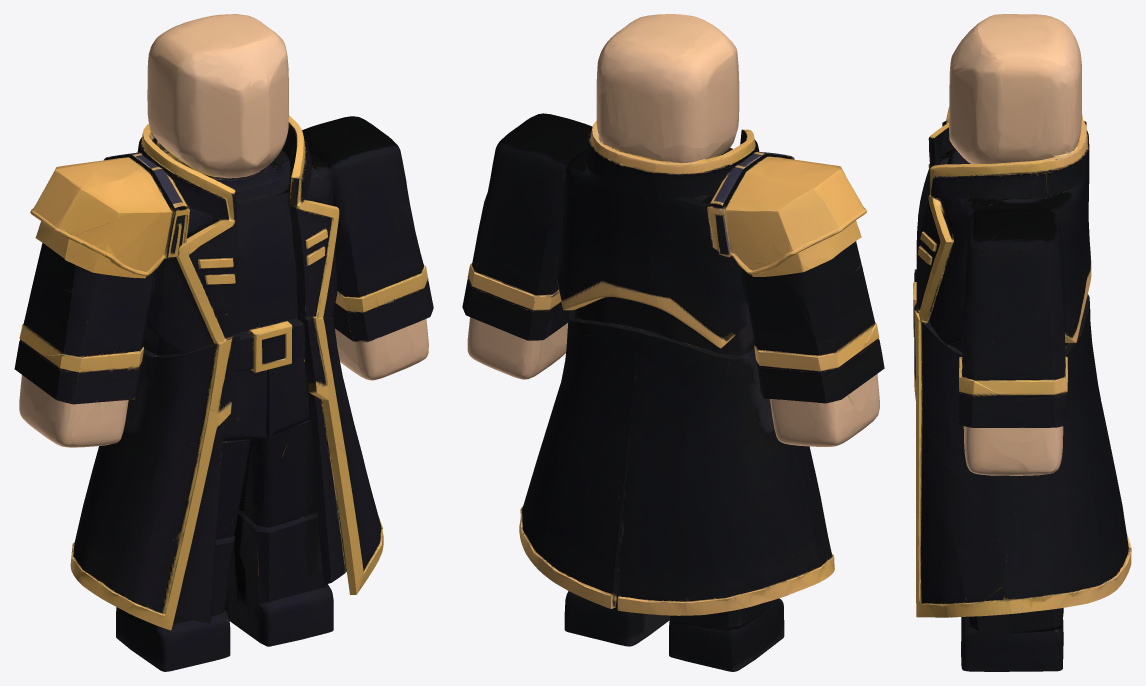
File: inkcel_commander.glb
3 views of the same model, side by side, from view 1: azimuth 30°, elevation 25°; view 2: azimuth 150°, elevation 25°; view 3: azimuth 270°, elevation 25° (orthographic).
Size of the model in its own units: 1.25 by 1.9 by 0.6258.
1 material, 1 textured.
